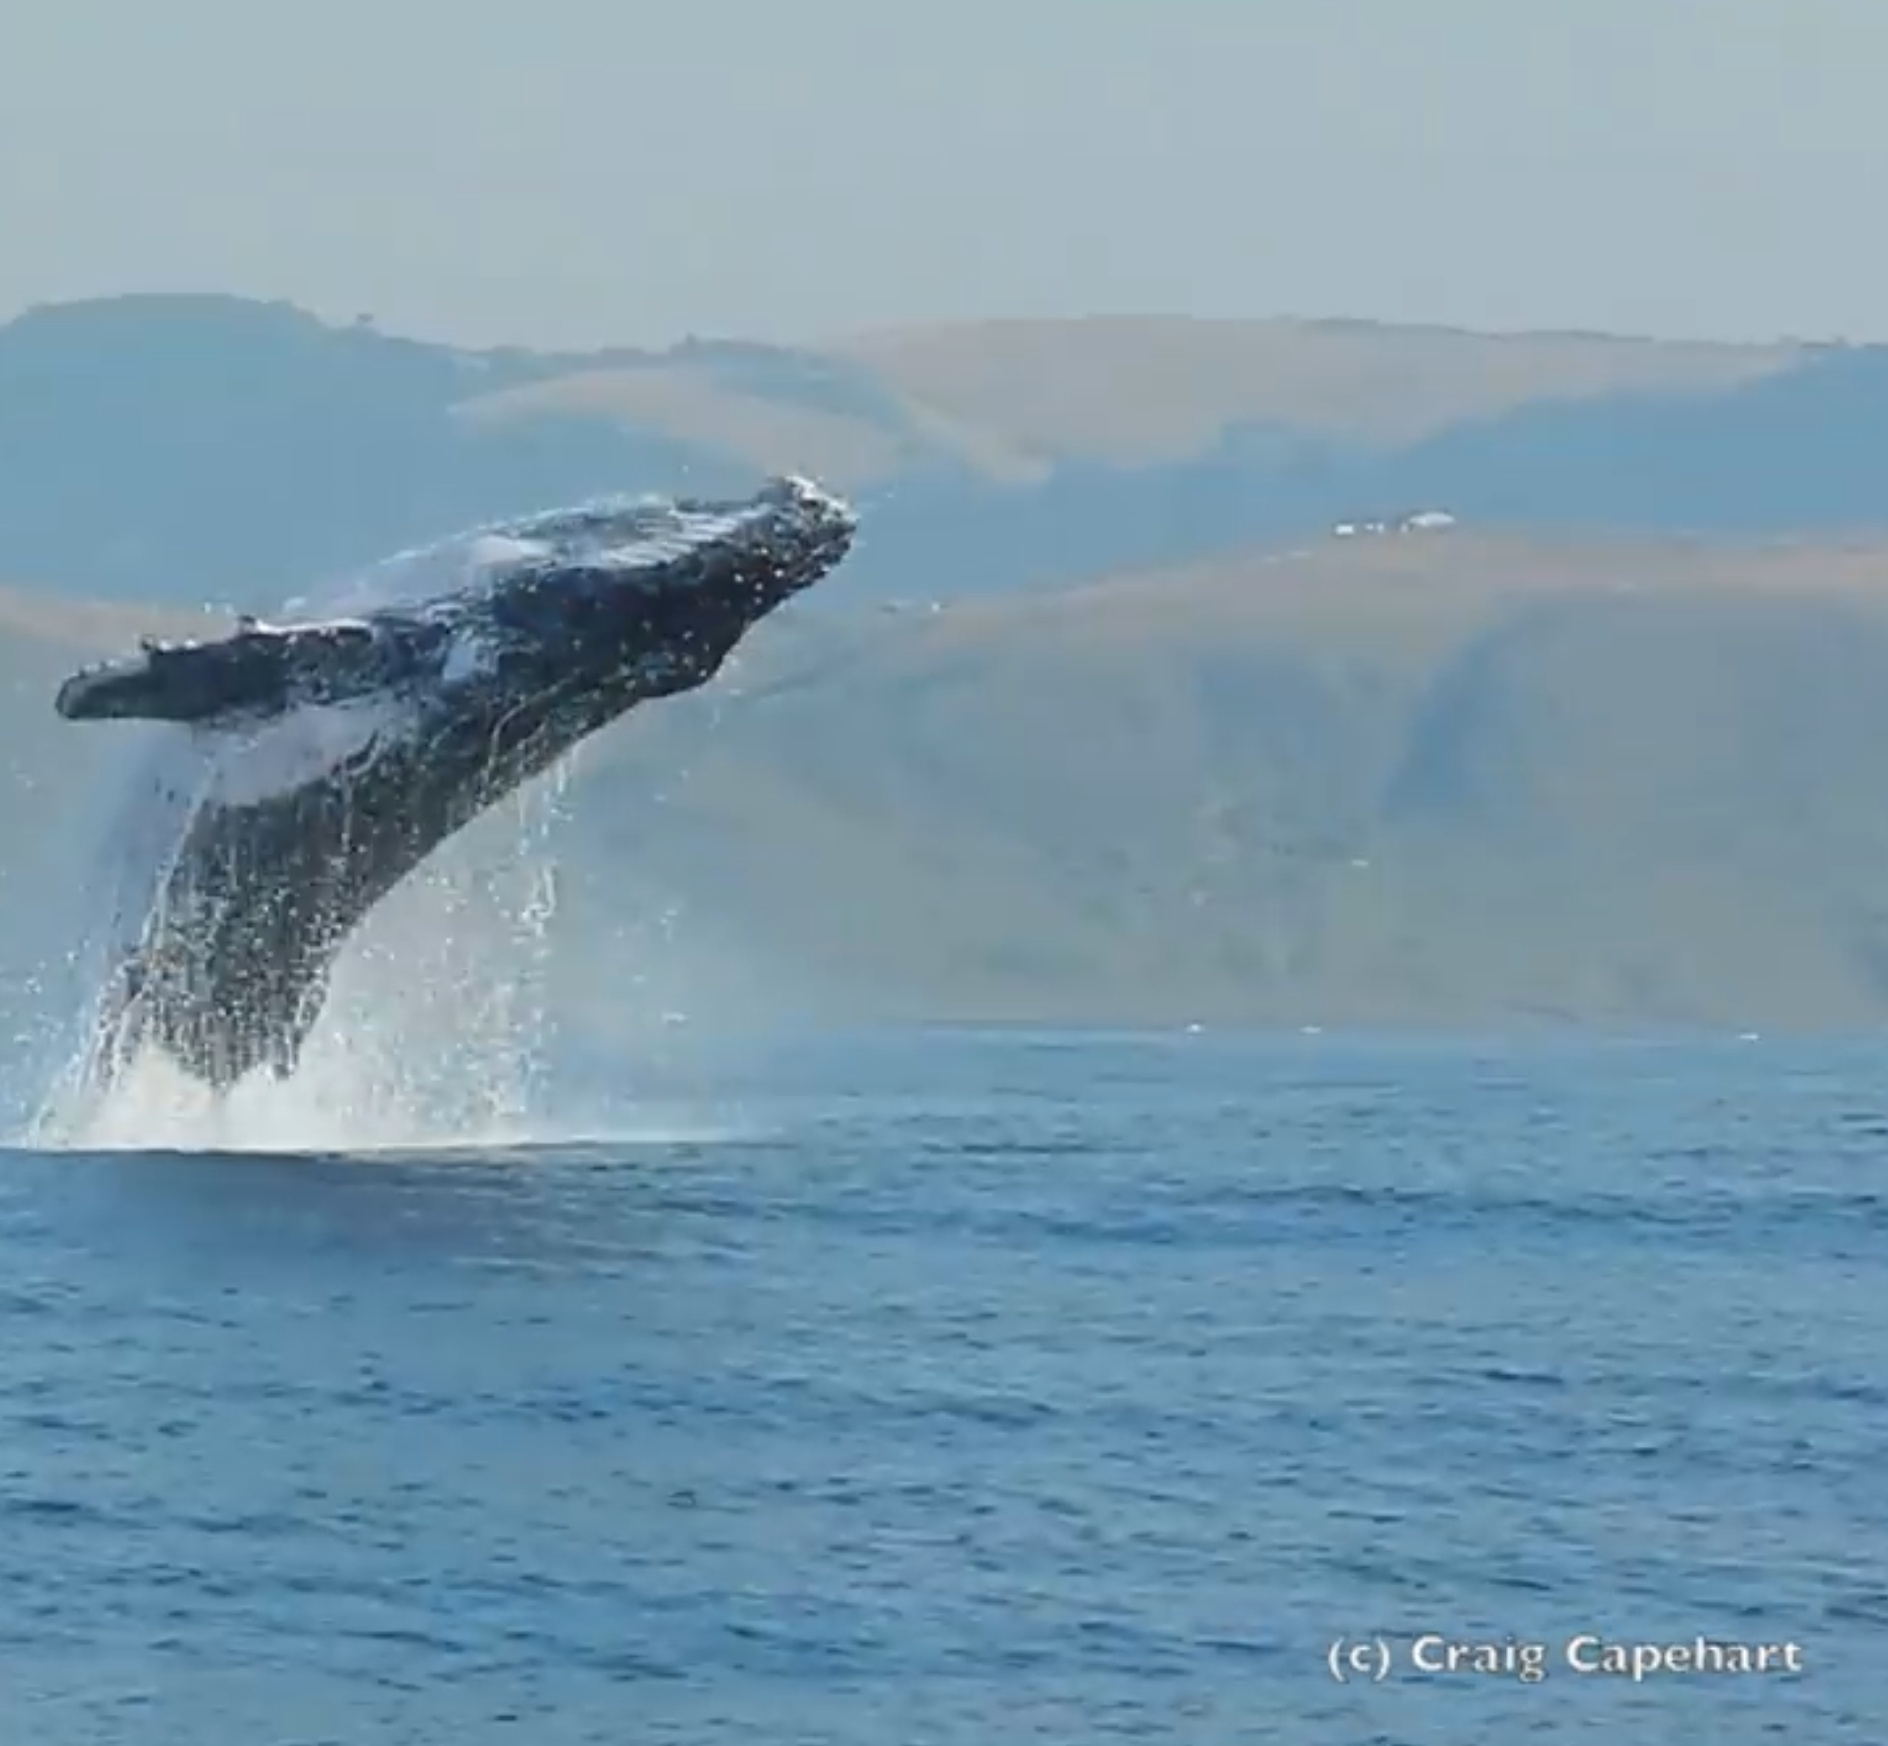humpback: (81, 465, 854, 1054)
